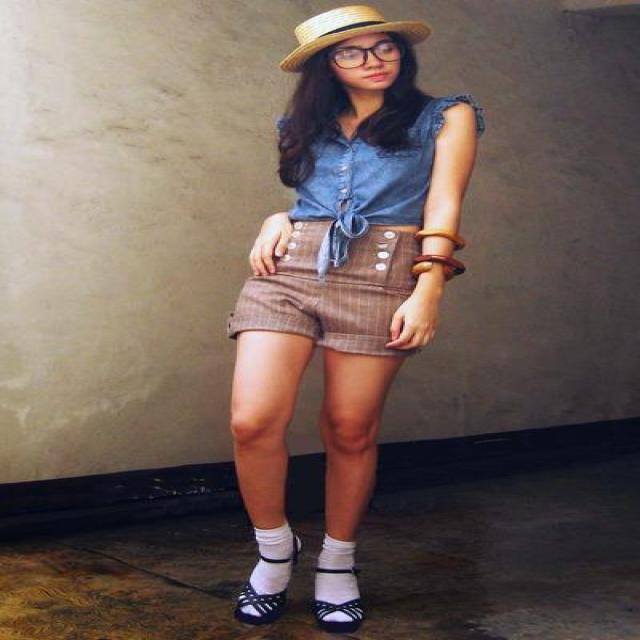hat: (272, 0, 417, 85)
shirt: (286, 90, 449, 236)
shoe: (242, 576, 360, 639)
skirt: (230, 223, 440, 621)
